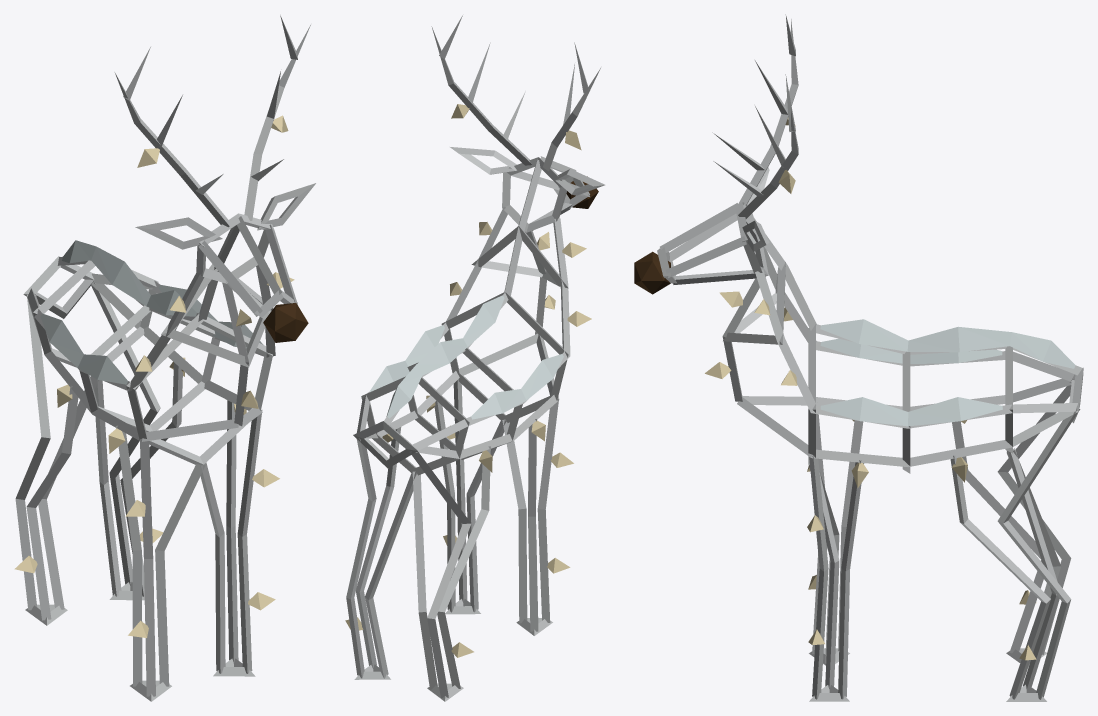
The model's file is light-up-wireframe-reindeer-8627df.glb.
The picture shows the model from 3 angles, left to right: view 1: azimuth 30°, elevation 25°; view 2: azimuth 150°, elevation 25°; view 3: azimuth 270°, elevation 25°; orthographic projection. The views are drawn at different scales.
Parts seen in each view (by area): view 1: reindeer-frame; view 2: reindeer-frame; view 3: reindeer-frame.
Part boxes in pixels (<box>): reindeer-frame: <box>14,15,315,701</box>; reindeer-frame: <box>345,15,604,701</box>; reindeer-frame: <box>634,14,1083,701</box>.
Bounding box in the file's own units: 0.4008 × 1.29 × 0.8315.
